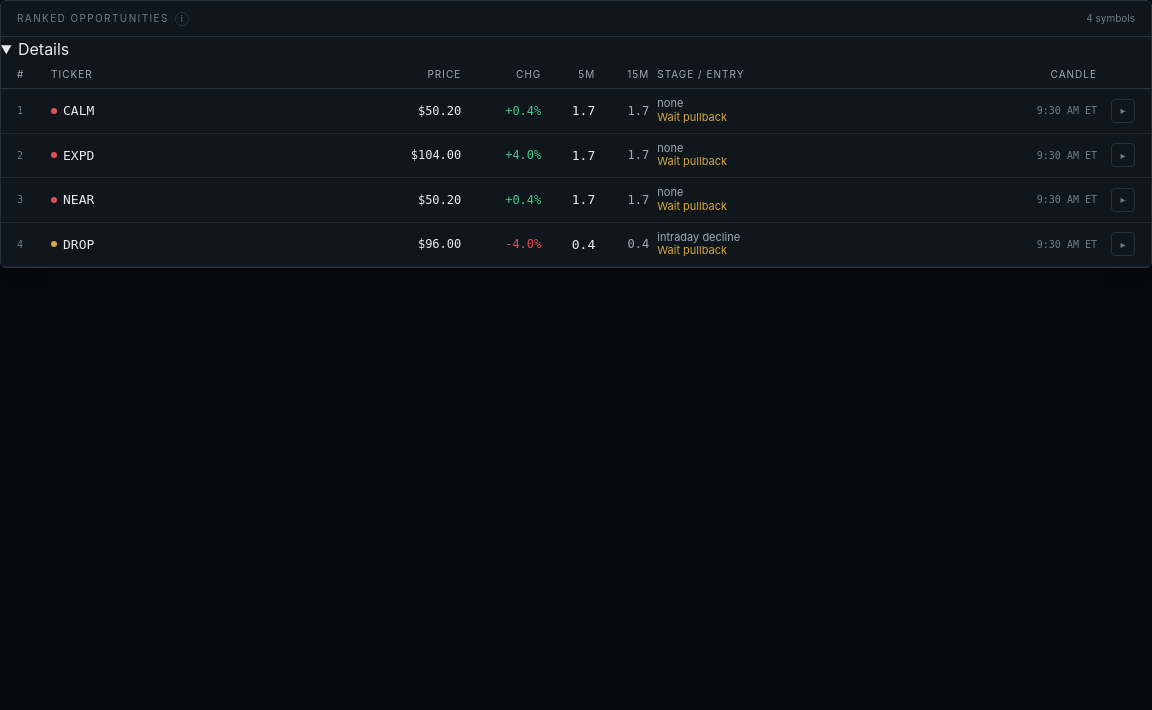
Test: backward compatibility › still renders every ranked row, and opening one still shows the setup detail
Expected: the text "EXPD" is shown, [63,148,94,162]
Expected: the text "DROP" is shown, [63,236,94,252]
Step 1. Click the button named "Expand EXPD" → (1123, 155), box [1111,143,1135,167]
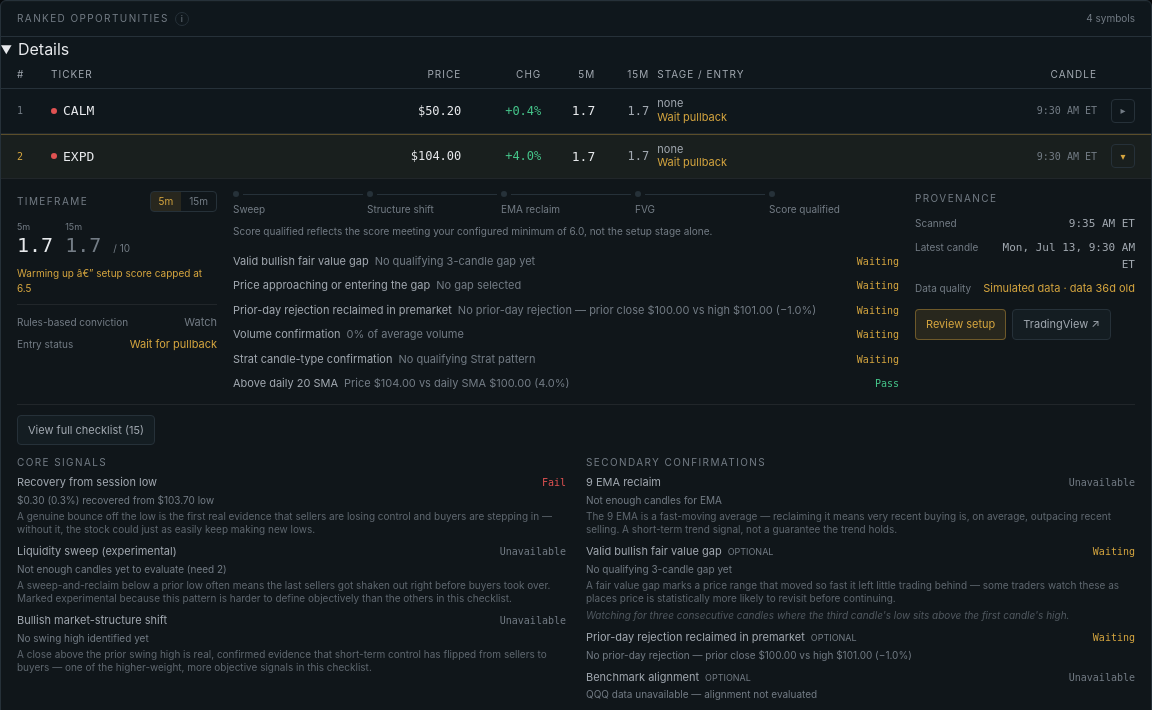
Expected: the button "View full checklist (15)" is shown, [17,414,155,445]
